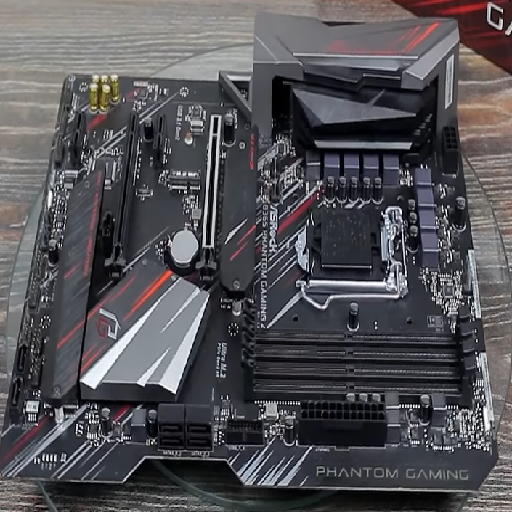CPU: (280, 172, 417, 309)
GPU: (102, 105, 153, 284), (188, 107, 232, 287)
MOTHERBOARD: (12, 17, 506, 503)
RAM: (231, 309, 485, 427)
SSD: (155, 167, 207, 198)
